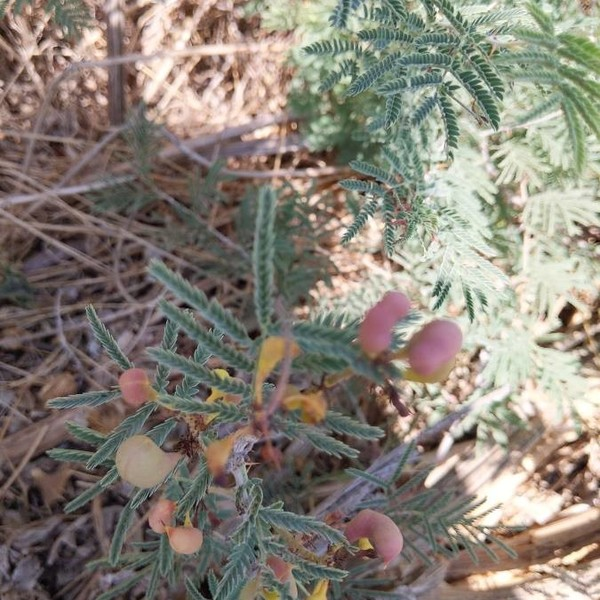obstacle: (111, 199, 361, 559), (331, 0, 521, 227)
